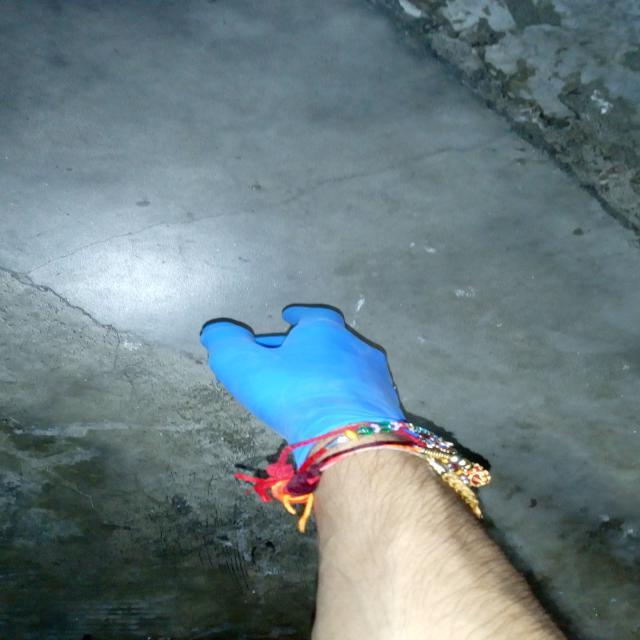gloved_hand: (186, 298, 420, 448)
